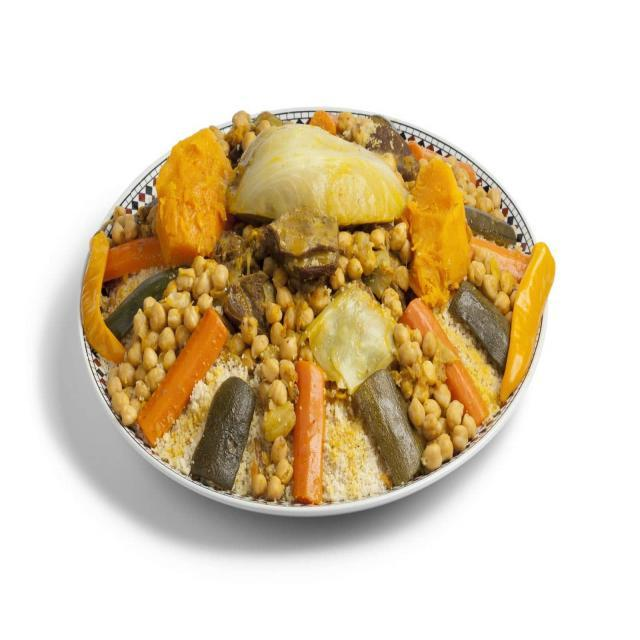Couscous: (79, 108, 551, 530)
